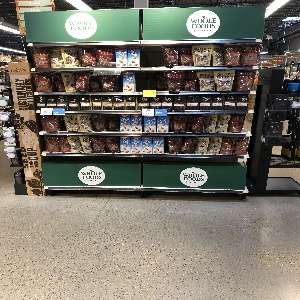void: (137, 73, 170, 98), (140, 45, 167, 71)
